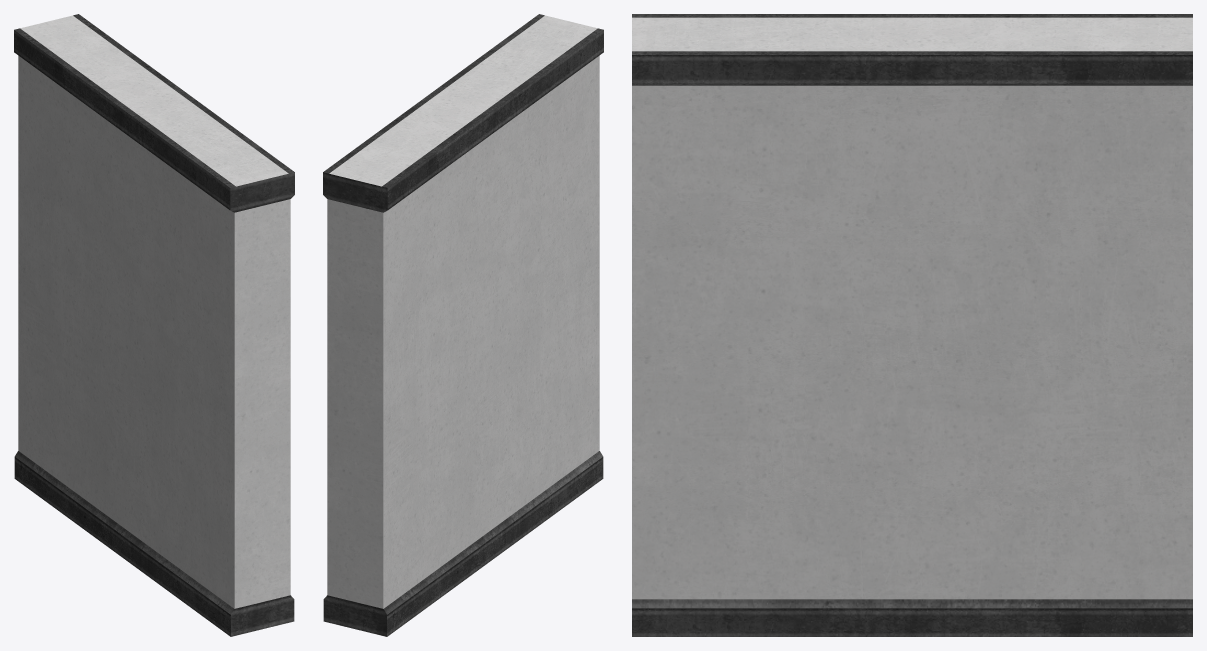
The model's file is MB_Fence_D_2m.fbx.
3 renders of one model, left to right at view 1: azimuth 30°, elevation 25°; view 2: azimuth 150°, elevation 25°; view 3: azimuth 270°, elevation 25°, orthographic. The views are drawn at different scales.
Visible parts, largest first — view 1: MB_Fence_D_2m; view 2: MB_Fence_D_2m; view 3: MB_Fence_D_2m.
Boxes of the visible parts, x1=… form: MB_Fence_D_2m: x1=14, y1=14, x2=294, y2=636; MB_Fence_D_2m: x1=323, y1=14, x2=603, y2=636; MB_Fence_D_2m: x1=632, y1=14, x2=1192, y2=636.
Size of the model in its own units: 34.62 by 229 by 200.
